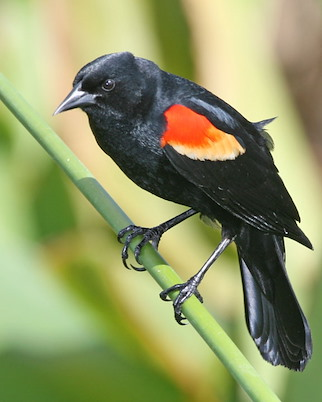bird: (75, 60, 308, 293)
